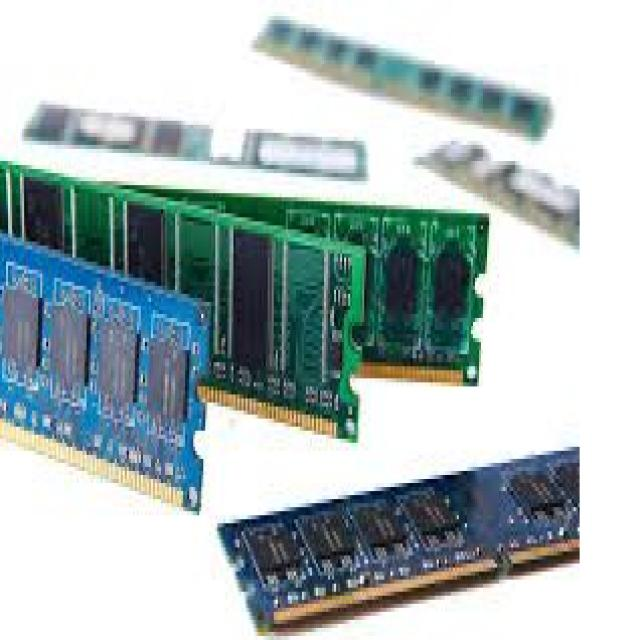Ram: (64, 52, 524, 640)
